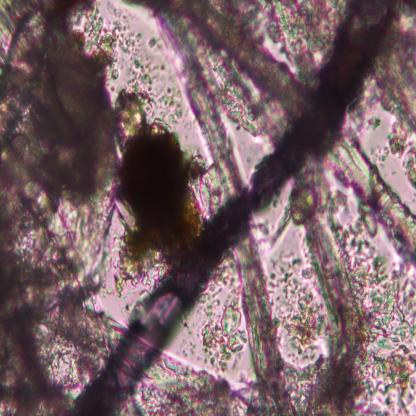Background material: (0, 2, 132, 408), (110, 79, 212, 279), (82, 6, 184, 125), (274, 254, 322, 352), (200, 302, 245, 370), (386, 126, 416, 190)
Cellulose filter fibre: (0, 294, 247, 412), (194, 0, 323, 129), (152, 10, 240, 198), (231, 229, 295, 414), (329, 132, 416, 266)
Cotton: (74, 1, 396, 415)
